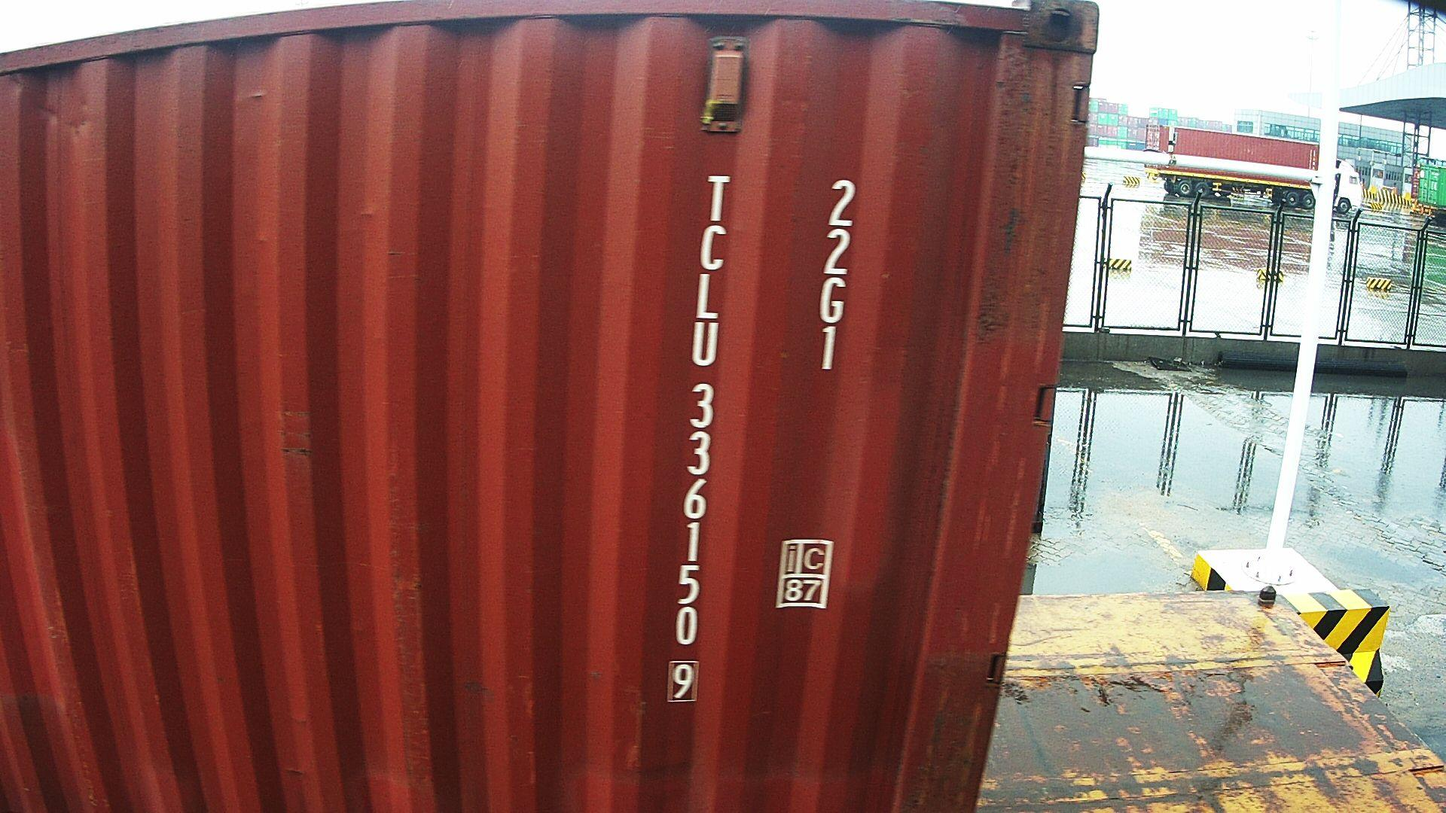container-numbers: (664, 171, 733, 707), (807, 177, 862, 379)
